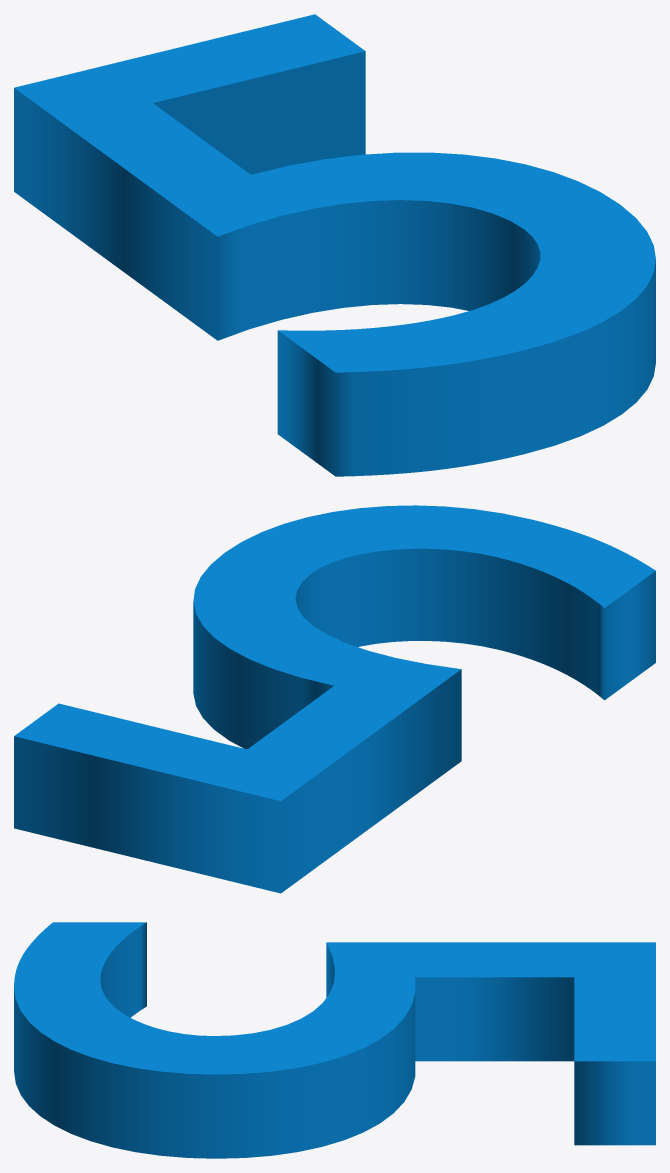
Rendered from Five.fbx.
The picture shows the model from 3 angles, top to bottom: view 1: azimuth 30°, elevation 25°; view 2: azimuth 150°, elevation 25°; view 3: azimuth 270°, elevation 25°; orthographic projection. The views are drawn at different scales.
Parts seen in each view (by area): view 1: Five; view 2: Five; view 3: Five.
Part boxes in pixels (<box>): Five: <box>14,14,655,476</box>; Five: <box>14,505,655,893</box>; Five: <box>14,922,655,1158</box>.
Bounding box in the file's own units: 138 × 20 × 77.6.
